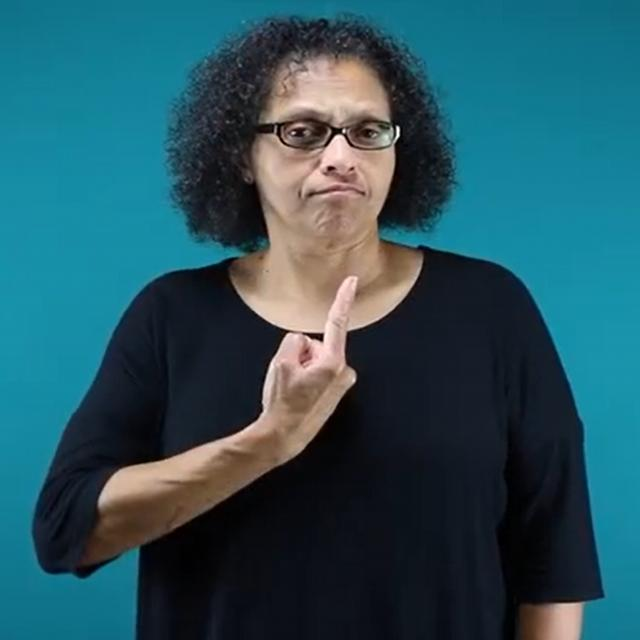I: (263, 275, 358, 456)
